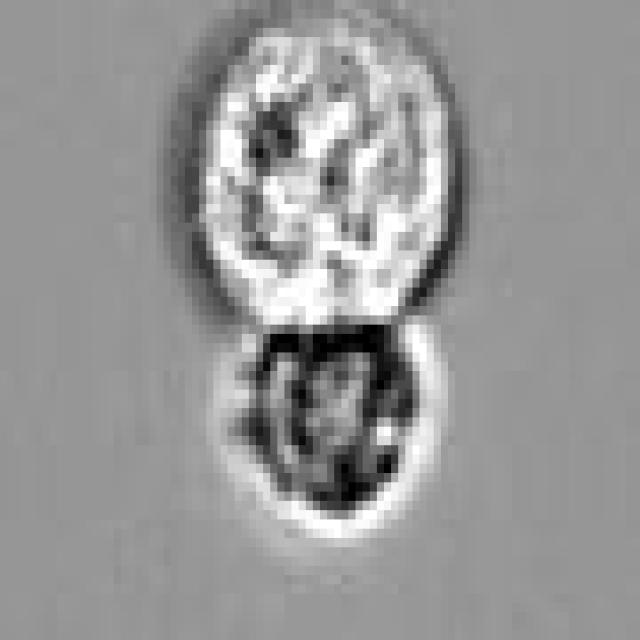Cancer Cell: (185, 10, 469, 352)
WBC: (234, 306, 433, 510)
